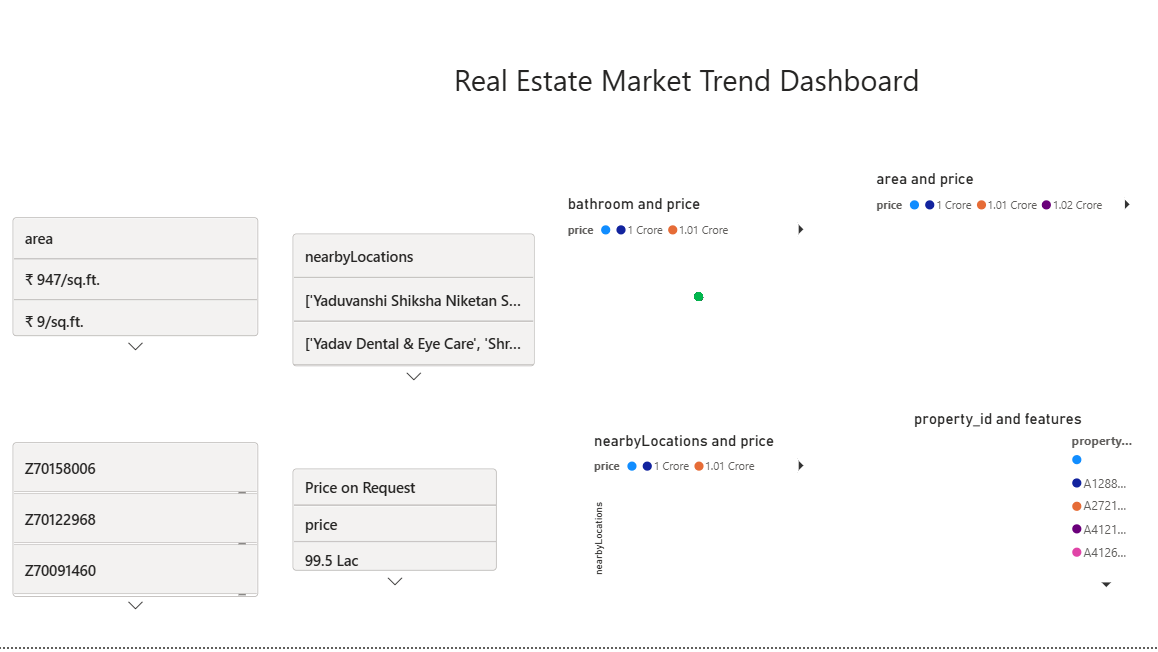

The page's visual inventory and layout, read from the dashboard file:
{"tool":"powerbi","page":{"name":"Page 1","canvas":[1280,720],"ordinal":0},"visuals":[{"type":"cardVisual","fields":{"Rows":["dataset.property_id"]},"box":[12.3,470.7,279.9,219.6],"z":0},{"type":"cardVisual","fields":{"Rows":["dataset.price"]},"box":[319.7,499.5,234.6,164.7],"z":1000},{"type":"cardVisual","fields":{"Rows":["dataset.area"]},"box":[12.3,223.7,279.9,182.5],"z":2000},{"type":"cardVisual","fields":{"Rows":["dataset.nearbyLocations"]},"box":[319.7,241.5,275.8,197.6],"z":3000},{"type":"clusteredBarChart","fields":{"Category":["dataset.nearbyLocations"],"Series":["dataset.price"]},"box":[650.4,483,251.1,181.1],"z":4000},{"type":"pieChart","fields":{"Category":["dataset.property_id"],"Series":["dataset.features"]},"box":[1001.7,459.7,258,204.5],"z":4001},{"type":"scatterChart","fields":{"Category":["dataset.bathroom"],"Series":["dataset.price"]},"box":[621.6,223.7,279.9,168.8],"z":4002},{"type":"lineChart","fields":{"Category":["dataset.area"],"Series":["dataset.price"]},"box":[960.6,196.2,299.1,209.9],"z":4003},{"type":"textbox","box":[292.3,35.7,838.4,105.7],"z":4004}]}

Visuals, with their boxes in screenshot pixels (x1, y1, x2, y2), scaled from the page's 1280x720 canvas onto the 1158x652 screenshot:
cardVisual - dataset.property_id: crop(11, 426, 264, 625)
cardVisual - dataset.price: crop(289, 452, 501, 601)
cardVisual - dataset.area: crop(11, 203, 264, 368)
cardVisual - dataset.nearbyLocations: crop(289, 219, 539, 398)
clusteredBarChart - dataset.nearbyLocations x dataset.price: crop(588, 437, 816, 601)
pieChart - dataset.property_id x dataset.features: crop(906, 416, 1140, 601)
scatterChart - dataset.bathroom x dataset.price: crop(562, 203, 816, 355)
lineChart - dataset.area x dataset.price: crop(869, 178, 1140, 368)
textbox: crop(264, 32, 1023, 128)
